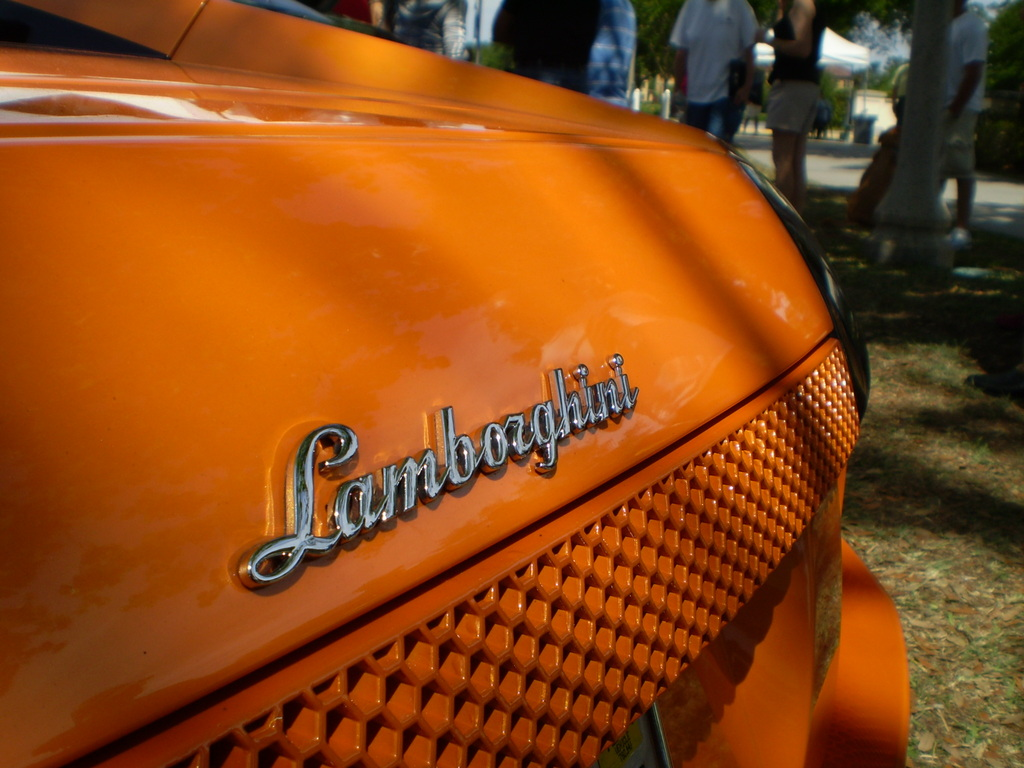Car: (0, 0, 913, 767)
